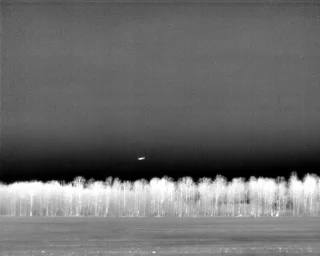DRONE: (135, 153, 147, 164)
